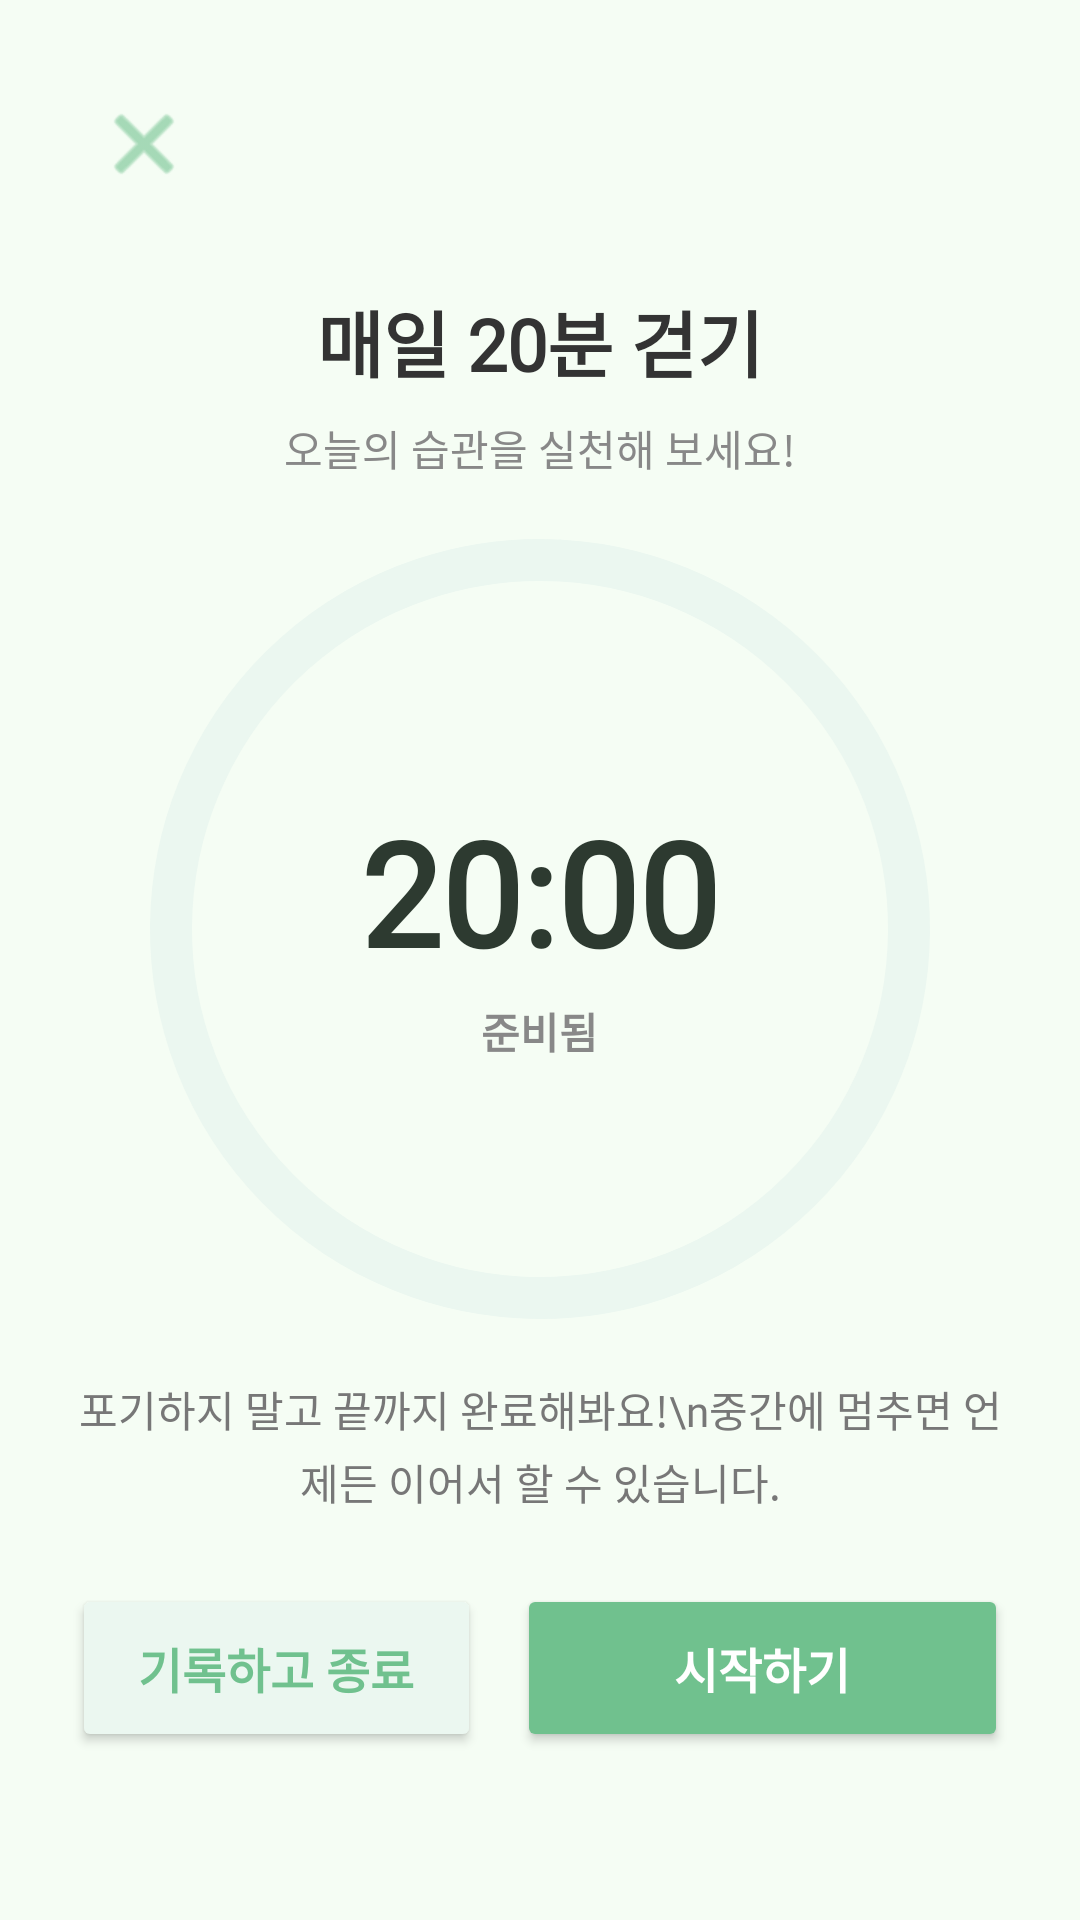

Screen size 1080×1920. Icon name, then its box in pixels as (x1, y1, x2, y2):
닫기: (114, 114, 174, 174)
